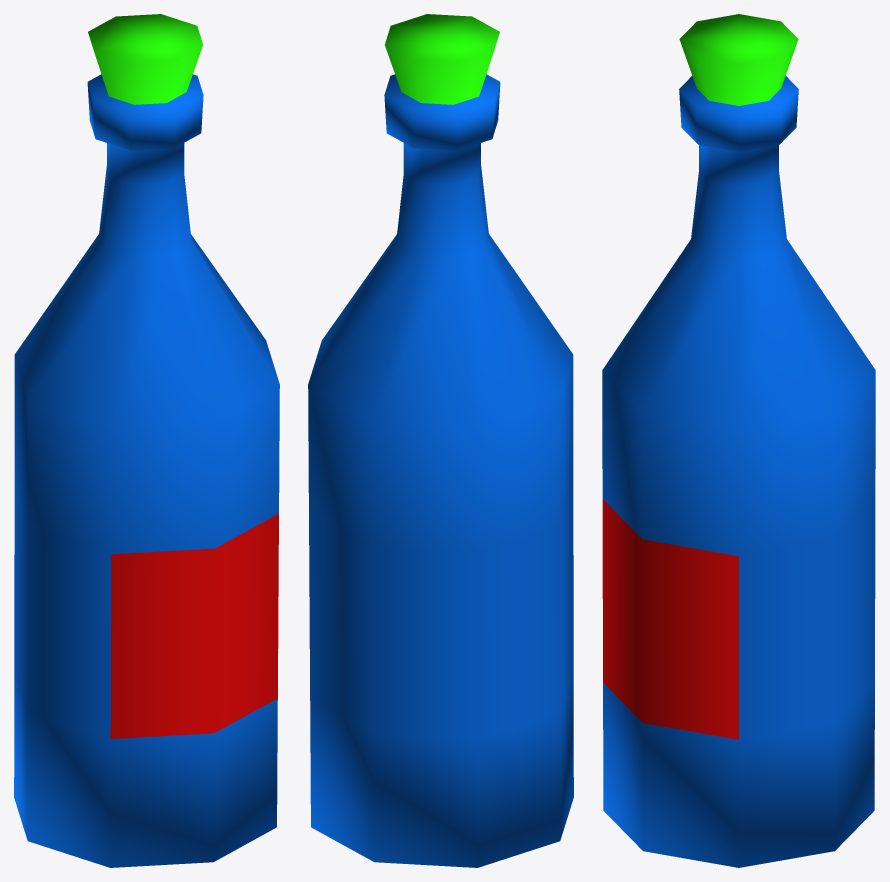
The model's file is Bottle.FBX.
3 views of the same model, side by side, from view 1: azimuth 30°, elevation 25°; view 2: azimuth 150°, elevation 25°; view 3: azimuth 270°, elevation 25° (orthographic).
Parts seen in each view (by area): view 1: etiquette; view 2: etiquette; view 3: etiquette.
Boxes of the visible parts, x1=… form: etiquette: x1=14, y1=14, x2=279, y2=867; etiquette: x1=308, y1=14, x2=573, y2=867; etiquette: x1=602, y1=14, x2=875, y2=867.
Size of the model in its own units: 15.65 by 15.59 by 48.54.
